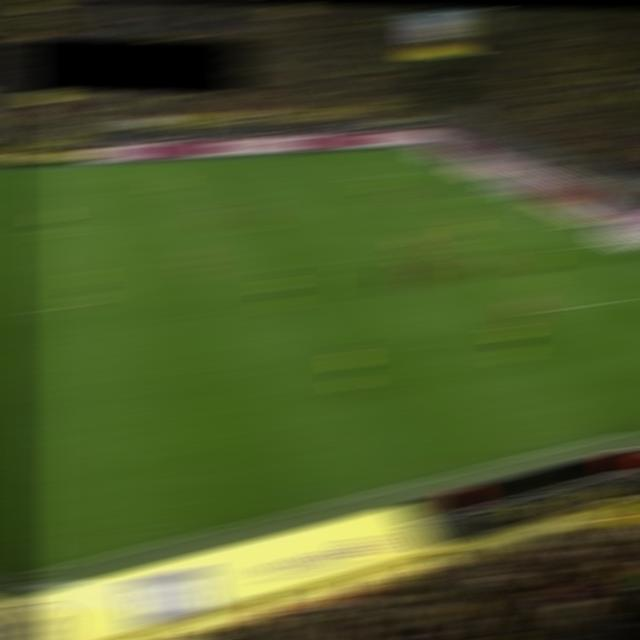bigarea_bottom_inner: (529, 306, 559, 315)
bigarea_top_inner: (333, 172, 364, 182)
bigarea_top_outter: (444, 165, 475, 175)
bottom_arc_area_intersection: (440, 246, 471, 256)
corner: (399, 144, 429, 153)
halfcircle_bottom: (31, 305, 61, 314)
halfcircle_top: (33, 226, 64, 235)
midline_bottom_intersection: (21, 563, 56, 582)
midline_top_intersection: (34, 164, 65, 173)
smallarea_bottom_inner: (552, 243, 583, 252)
smallarea_bottom_outter: (598, 239, 629, 249)
smallarea_top_inner: (454, 191, 485, 200)
smallarea_top_outter: (490, 186, 521, 197)
top_arc_area_intersection: (375, 202, 405, 211)
